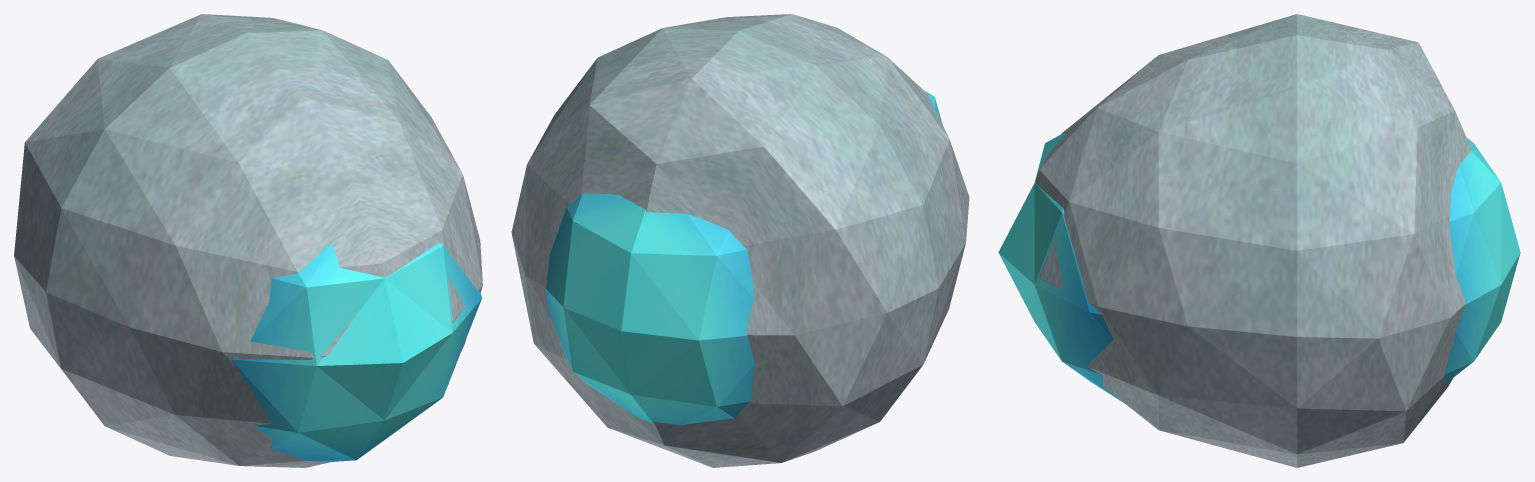
Rendered from world_shuipao.obj.
3 renders of one model, left to right at view 1: azimuth 30°, elevation 25°; view 2: azimuth 150°, elevation 25°; view 3: azimuth 270°, elevation 25°, orthographic.
Visible parts, largest first — view 1: 111, World_shuipao; view 2: 111, World_shuipao; view 3: 111, World_shuipao.
Part boxes in pixels (x1,y1,x2,y2): 111: (14, 14, 482, 467); World_shuipao: (230, 242, 481, 461); 111: (511, 14, 969, 467); World_shuipao: (545, 90, 942, 425); 111: (1035, 14, 1472, 467); World_shuipao: (998, 133, 1520, 403).
Size of the model in its own units: 24.2 by 24.2 by 27.82.
2 materials, 2 textured.
